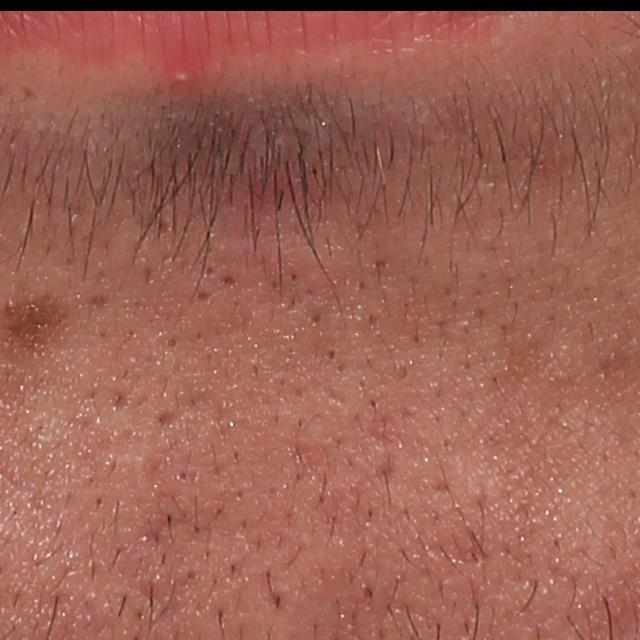atrophic_scar: (375, 456, 398, 489), (153, 408, 177, 434), (217, 273, 240, 288)
